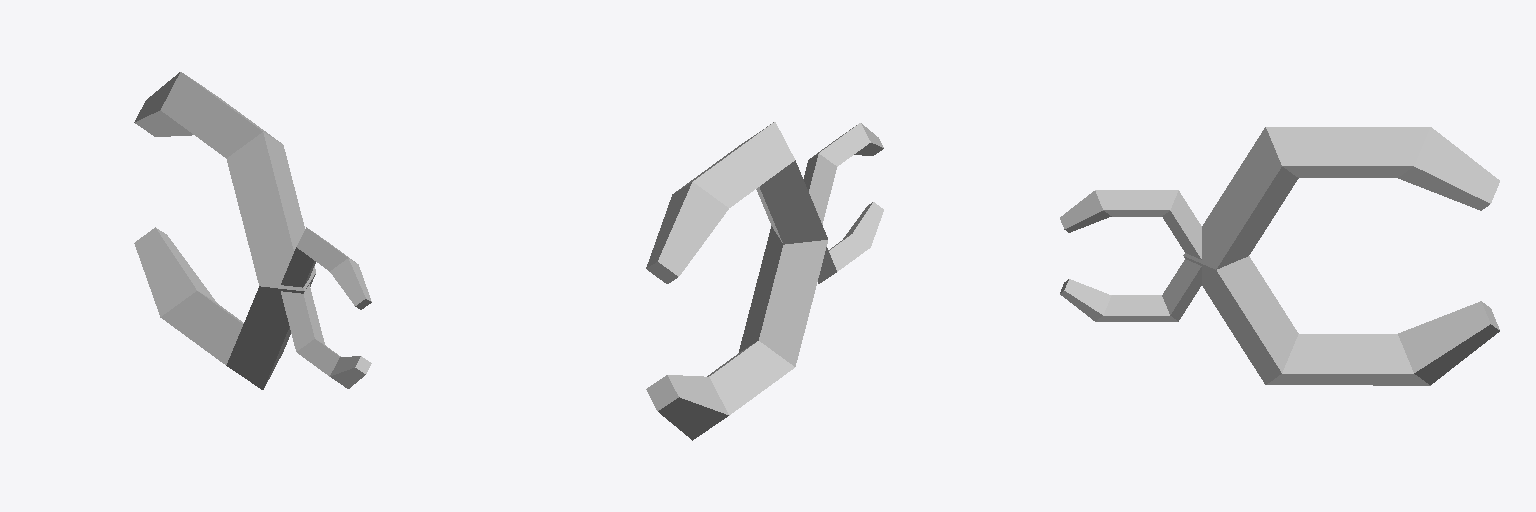
File: Kusachki.obj
The picture shows the model from 3 angles: view 1: azimuth 30°, elevation 25°; view 2: azimuth 150°, elevation 25°; view 3: azimuth 270°, elevation 25°; orthographic projection.
Visible parts, largest first — view 1: Torus.001; view 2: Torus.001; view 3: Torus.001.
Boxes of the visible parts, x1=… form: Torus.001: x1=134, y1=72, x2=371, y2=389; Torus.001: x1=646, y1=122, x2=883, y2=440; Torus.001: x1=1060, y1=127, x2=1499, y2=385.
Bounding box in the file's own units: 0.3208 × 1.39 × 2.14.